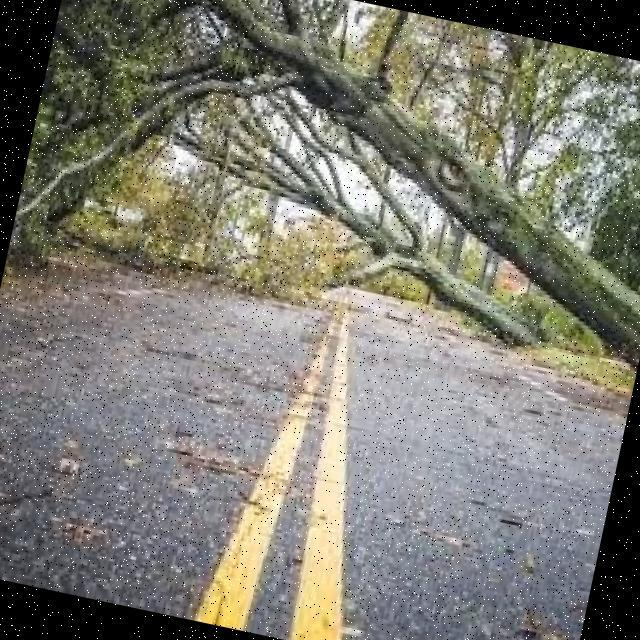fallen_object: (125, 0, 640, 379), (120, 83, 568, 350)
